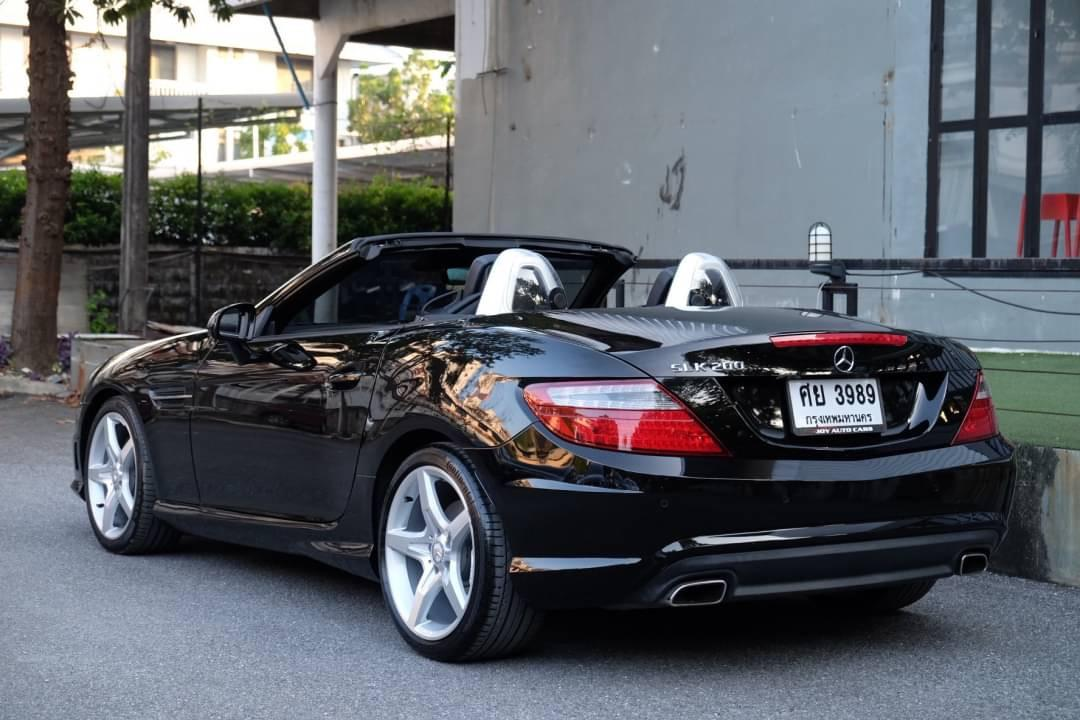license-plate: (780, 365, 899, 442)
